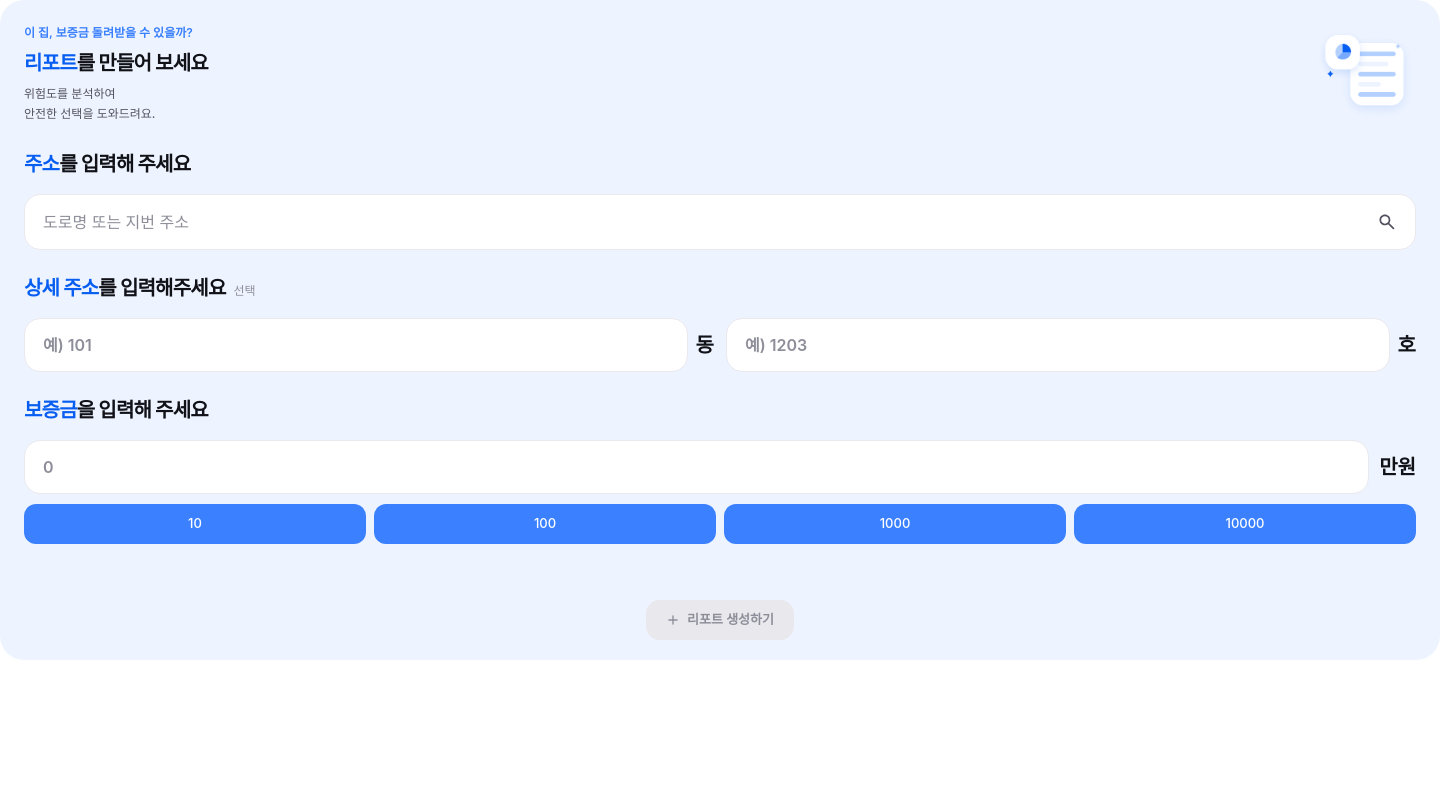
Scenario: ReportCreateForm › 백엔드 주소 API 오류를 사용자 메시지로 표시한다
In the field named "주소 검색어": x=703, y=222 x1=41 y1=209 x2=1365 y2=235, type "테헤란로"
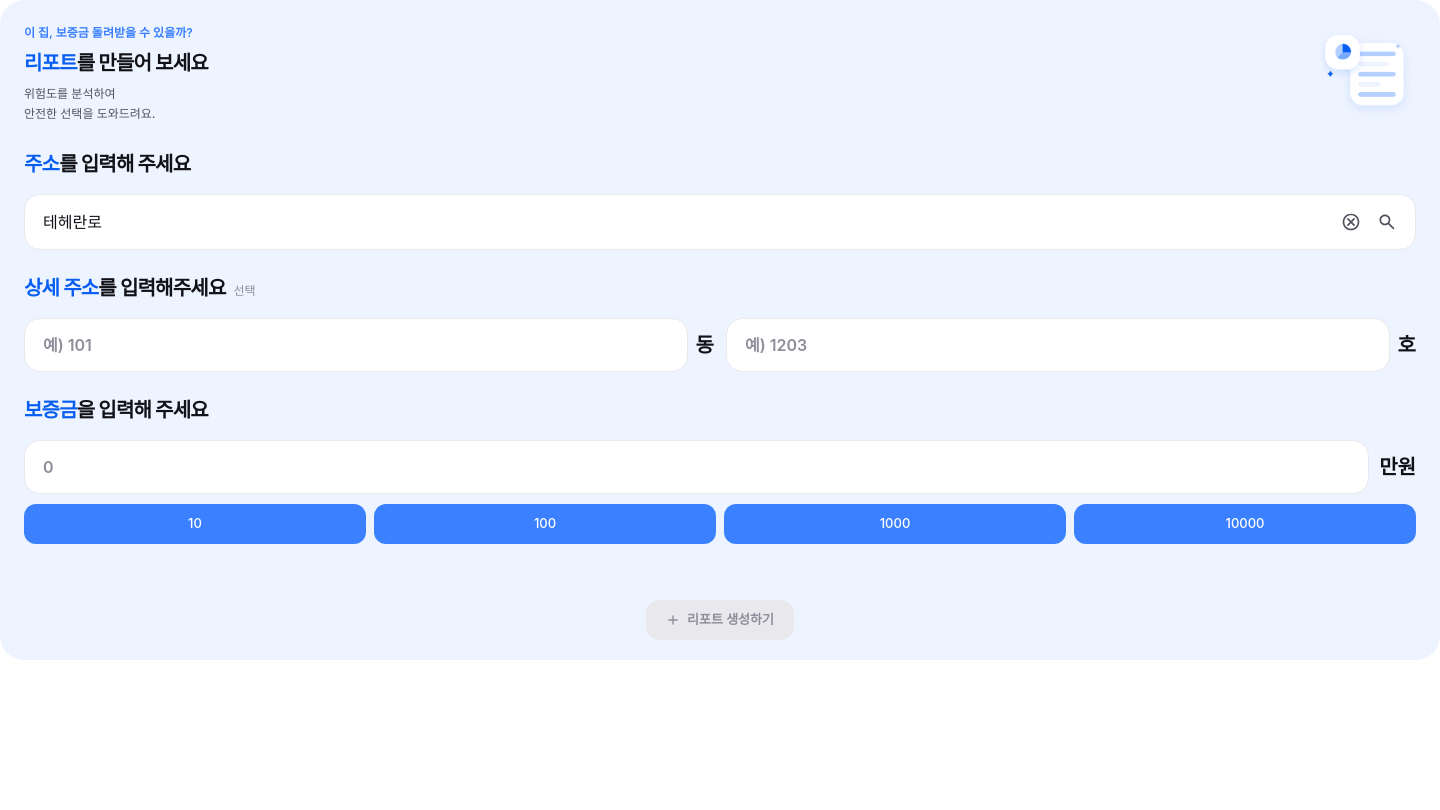
Click the button named "주소 검색": x=1387, y=222 x1=1373 y1=208 x2=1401 y2=236
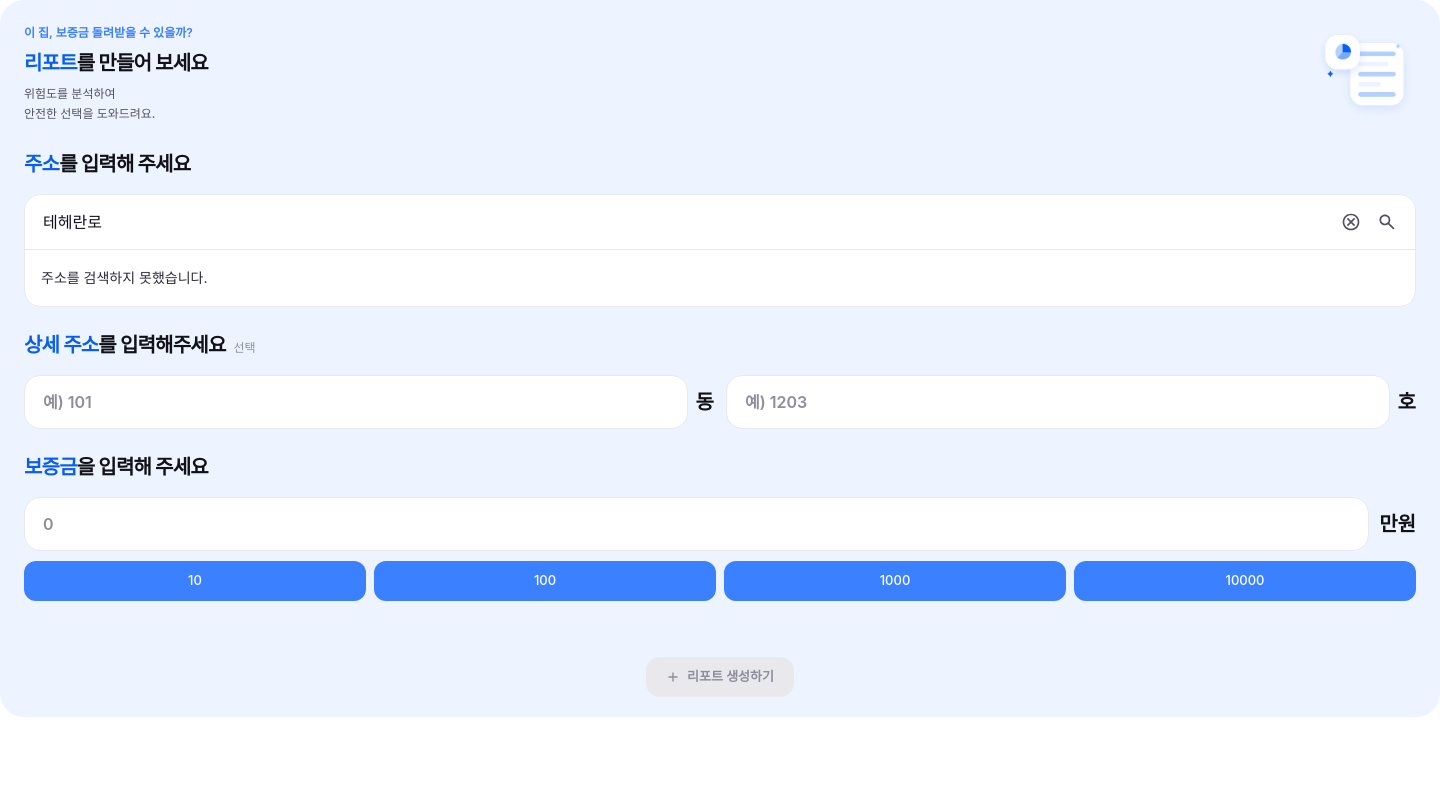
Result: the message "주소를 검색하지 못했습니다." is shown at x1=41 y1=269 x2=208 y2=286
